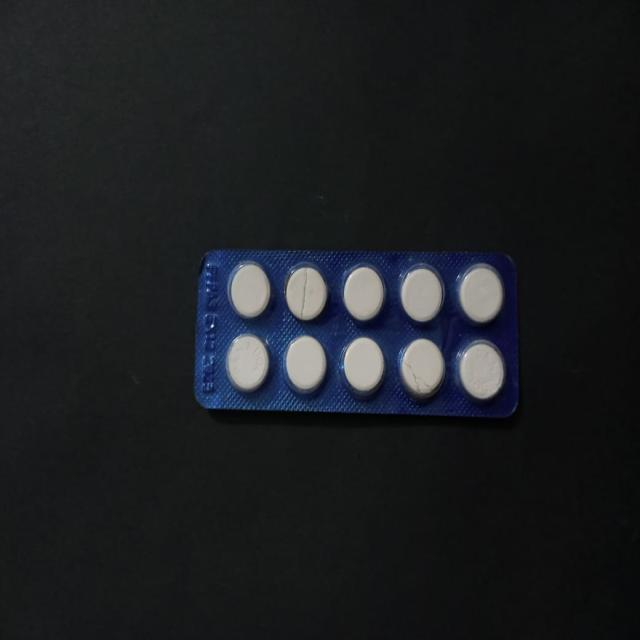defect: (395, 335, 448, 404), (282, 258, 331, 324)
